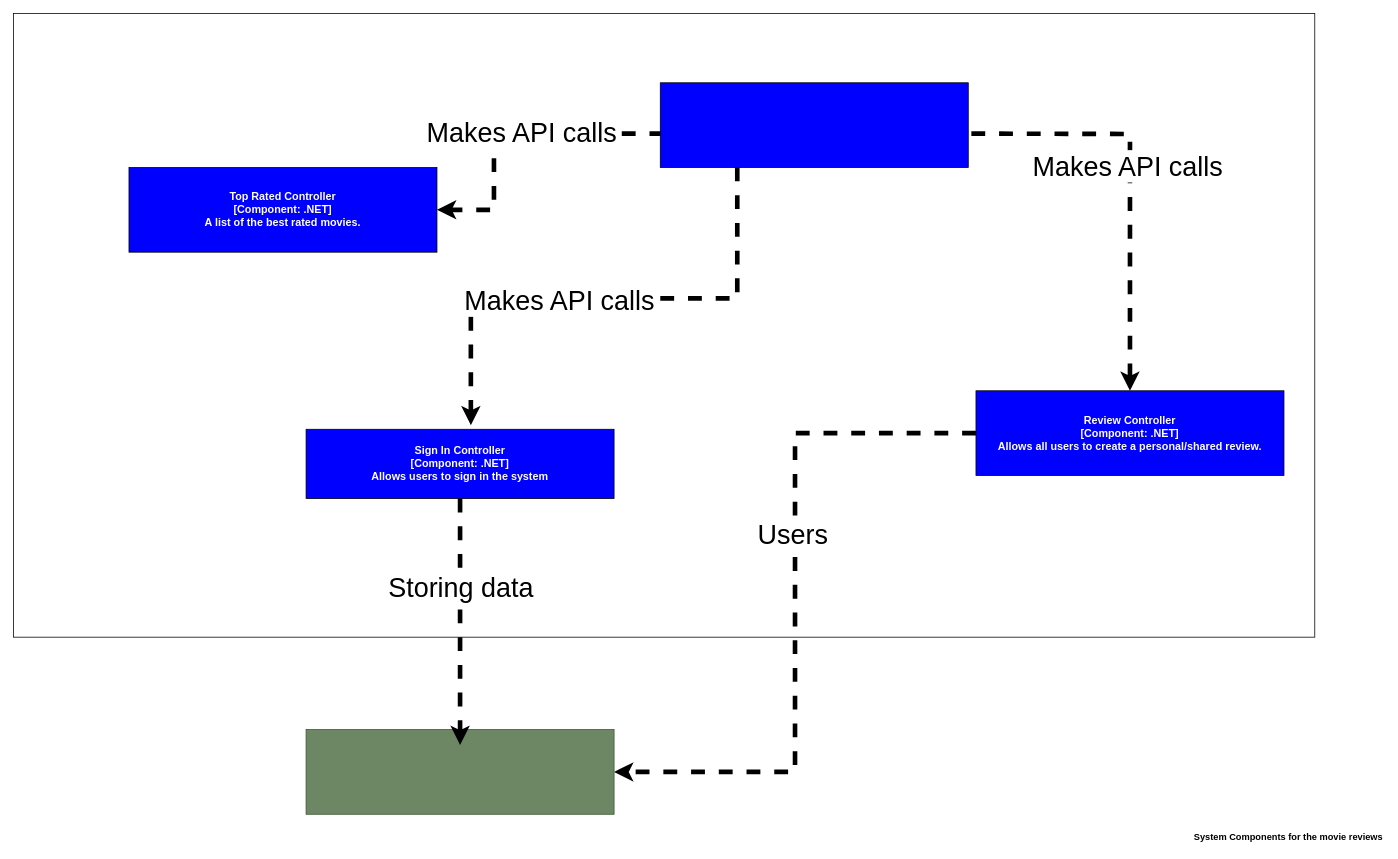
Image size: 1398x859. Some labels were removed from this diagram. The shapes that lost their labels are listed below. From the top down, each one's box as (x1, y1, x2, y2) in pixels, then its label:
(660, 82, 968, 167): Web Application [Container: MVC & .NET] Delivers the static content to API
(305, 729, 614, 814): DataBase [Container SQL DataBase] A database where information is stored.
